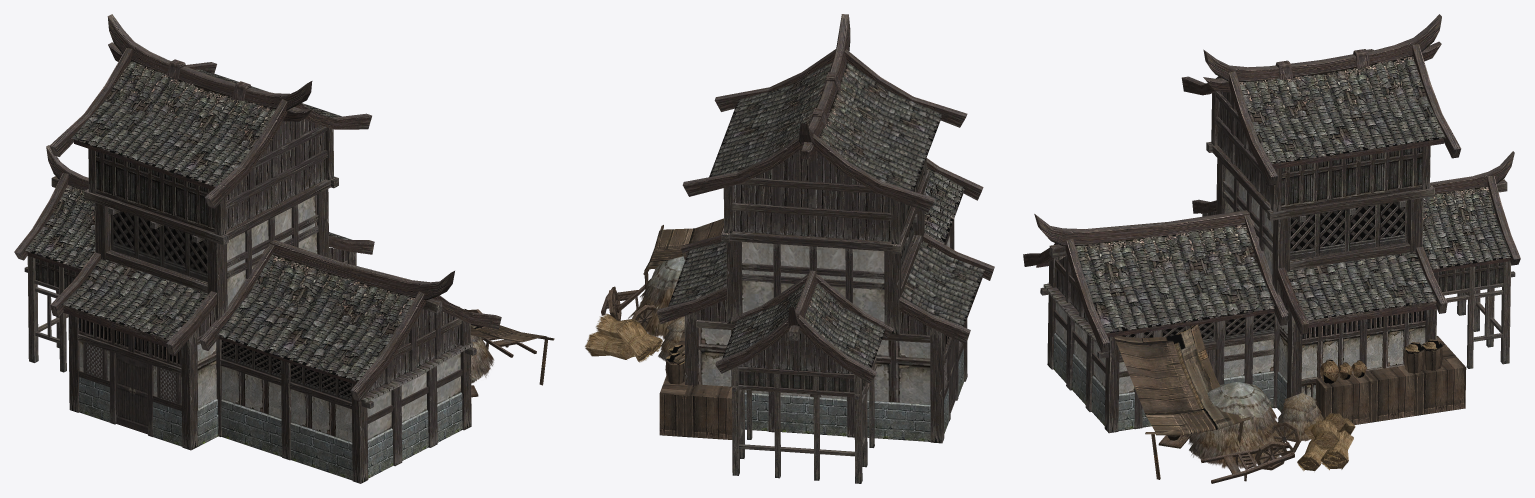
The model's file is chinese_house.glb.
3 renders of one model, left to right at view 1: azimuth 30°, elevation 25°; view 2: azimuth 150°, elevation 25°; view 3: azimuth 270°, elevation 25°, orthographic. The views are drawn at different scales.
Parts seen in each view (by area): view 1: Object_6, Object_3, Object_5, Object_4, Object_2; view 2: Object_6, Object_3, Object_5, Object_2, Object_4, Object_8; view 3: Object_6, Object_5, Object_3, Object_2, Object_4, Object_8.
Part boxes in pixels (left/top/right/bottom): Object_6: left=14, top=14, right=501, bottom=401; Object_3: left=24, top=121, right=476, bottom=483; Object_5: left=35, top=119, right=472, bottom=441; Object_4: left=458, top=306, right=536, bottom=397; Object_2: left=464, top=309, right=554, bottom=385; Object_6: left=656, top=14, right=994, bottom=383; Object_3: left=684, top=155, right=967, bottom=483; Object_5: left=697, top=149, right=950, bottom=404; Object_2: left=643, top=218, right=732, bottom=439; Object_4: left=601, top=256, right=685, bottom=361; Object_8: left=585, top=313, right=663, bottom=362; Object_6: left=1023, top=14, right=1520, bottom=352; Object_5: left=1043, top=91, right=1503, bottom=398; Object_3: left=1040, top=91, right=1515, bottom=433; Object_2: left=1114, top=324, right=1466, bottom=479; Object_4: left=1158, top=382, right=1323, bottom=483; Object_8: left=1297, top=413, right=1355, bottom=471.
Bounding box in the file's own units: 1422 × 1099 × 1482.
7 materials, 7 textured.
